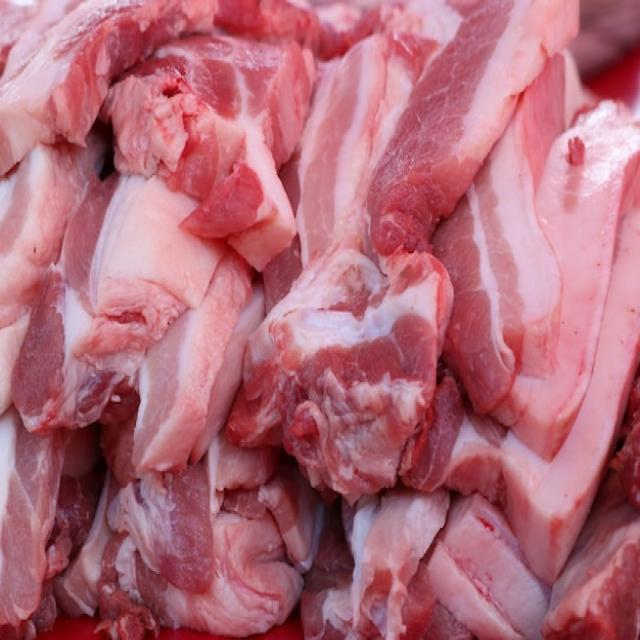pork: (27, 179, 215, 491), (246, 276, 460, 497), (109, 31, 318, 188), (293, 20, 387, 298)
